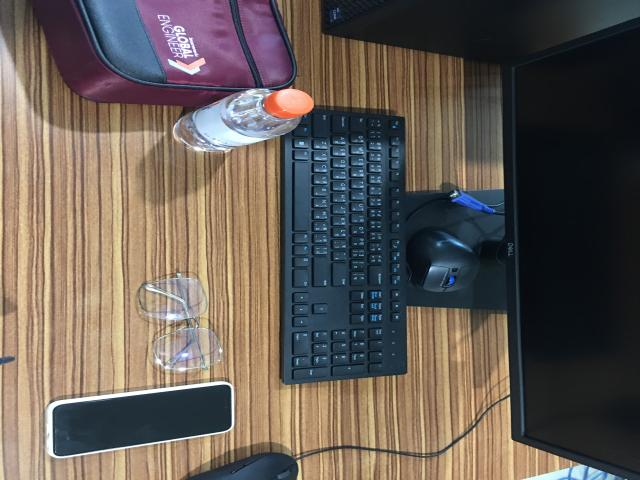Glasses: (135, 275, 221, 375)
Mobile phone: (42, 380, 235, 460)
Mouse: (414, 232, 484, 295), (184, 453, 300, 480)
bottle: (172, 86, 313, 153)
